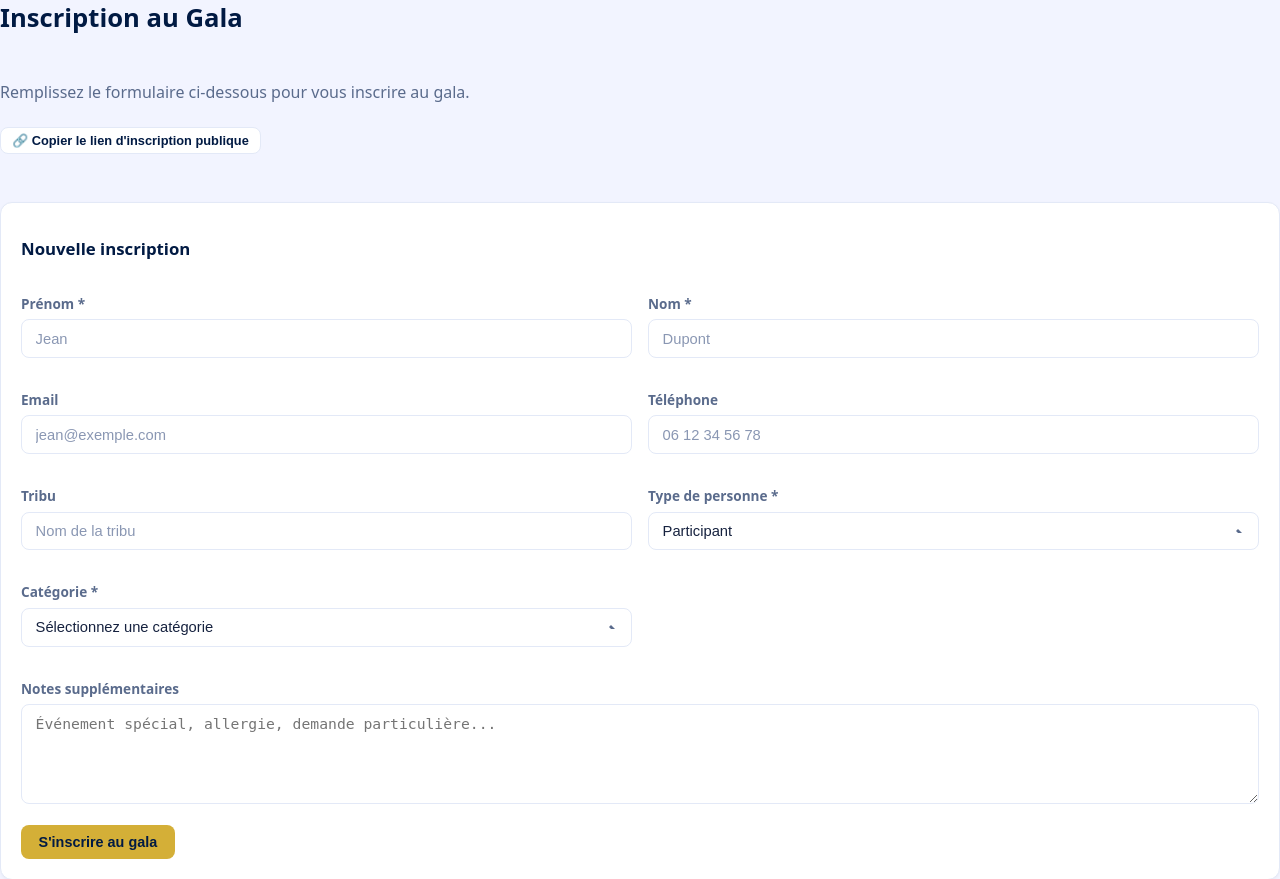
it: retains the input and shows the real error when registration fails
Type "Awa" into the field with placeholder "Jean".
click(326, 339); type("Awa")  # box left=21, top=319, right=632, bottom=358
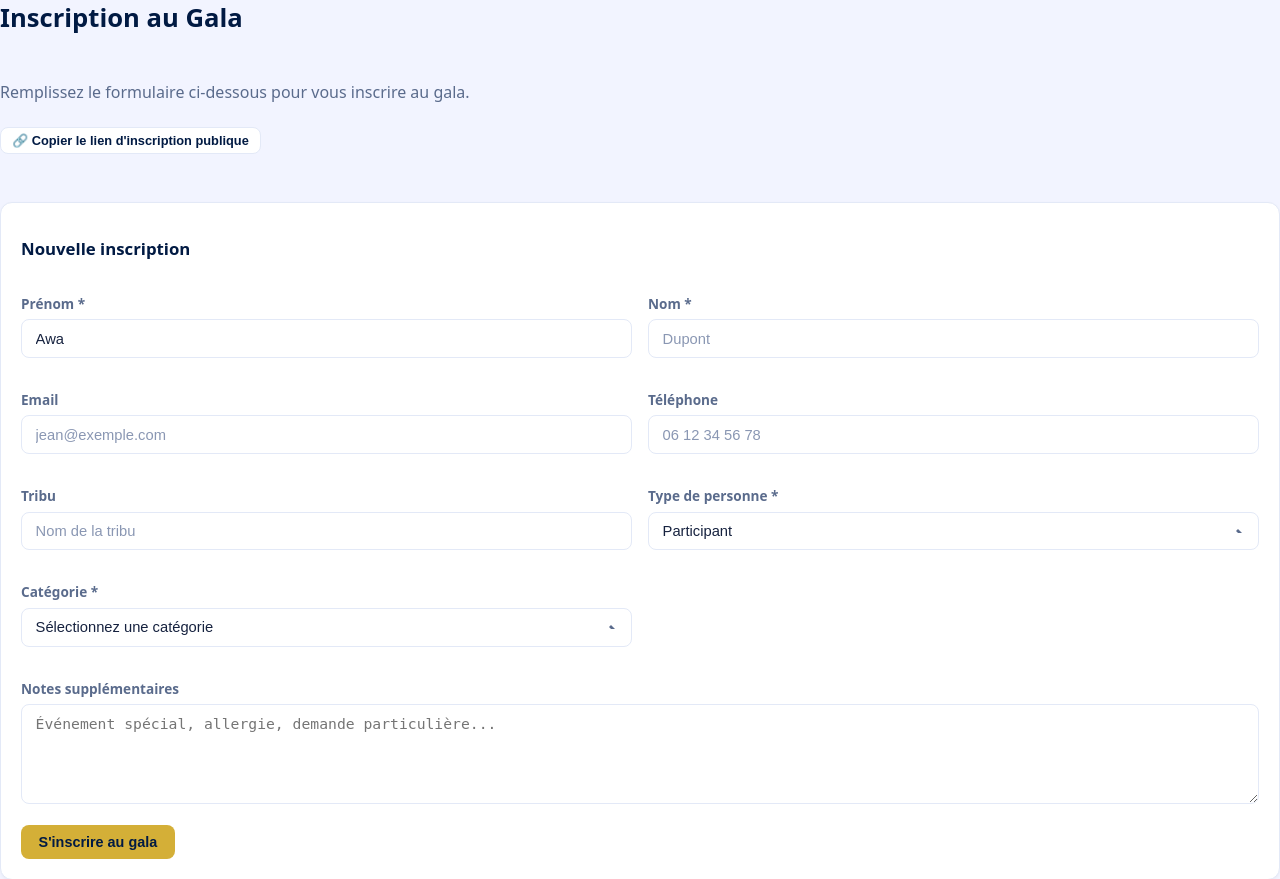
Type "Test" into the field with placeholder "Dupont".
click(954, 339); type("Test")  # box left=648, top=319, right=1259, bottom=358
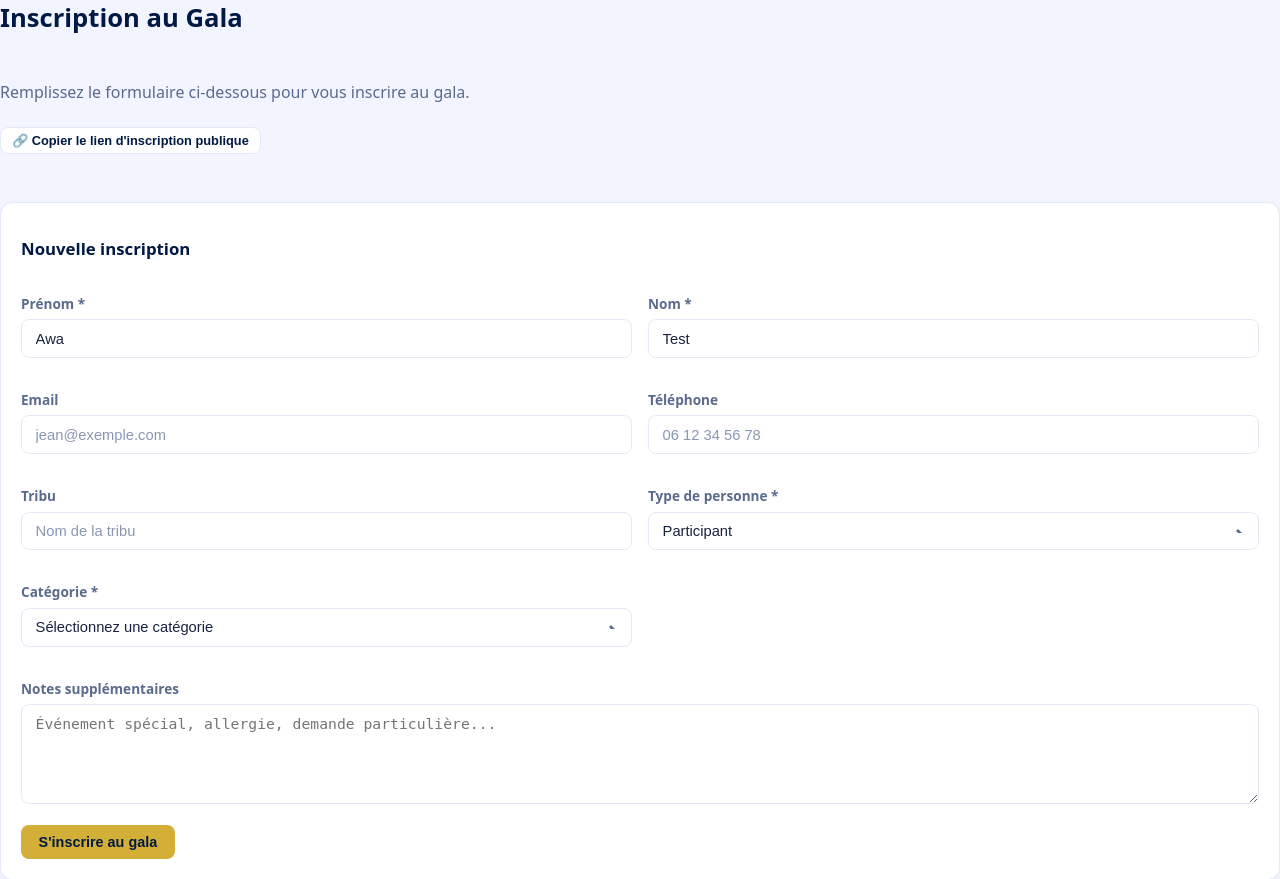
Type "awa@example.test" into the field with placeholder "jean@exemple.com".
click(326, 435); type("awa@example.test")  # box left=21, top=415, right=632, bottom=454
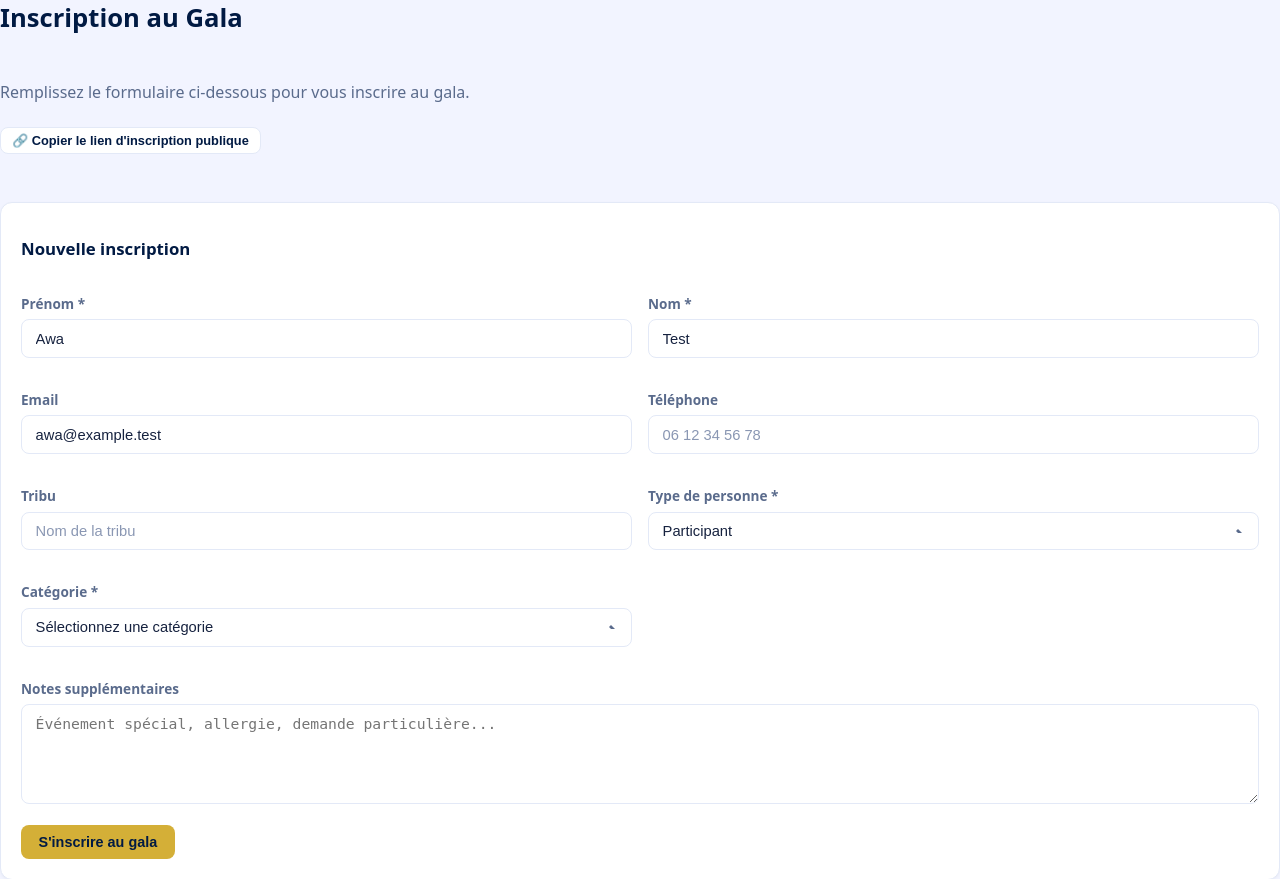
Select "VIP — 500 000 FCFA" in the dropdown named "category_id" below "Catégorie *" at point(326, 627), box left=21, top=608, right=632, bottom=647
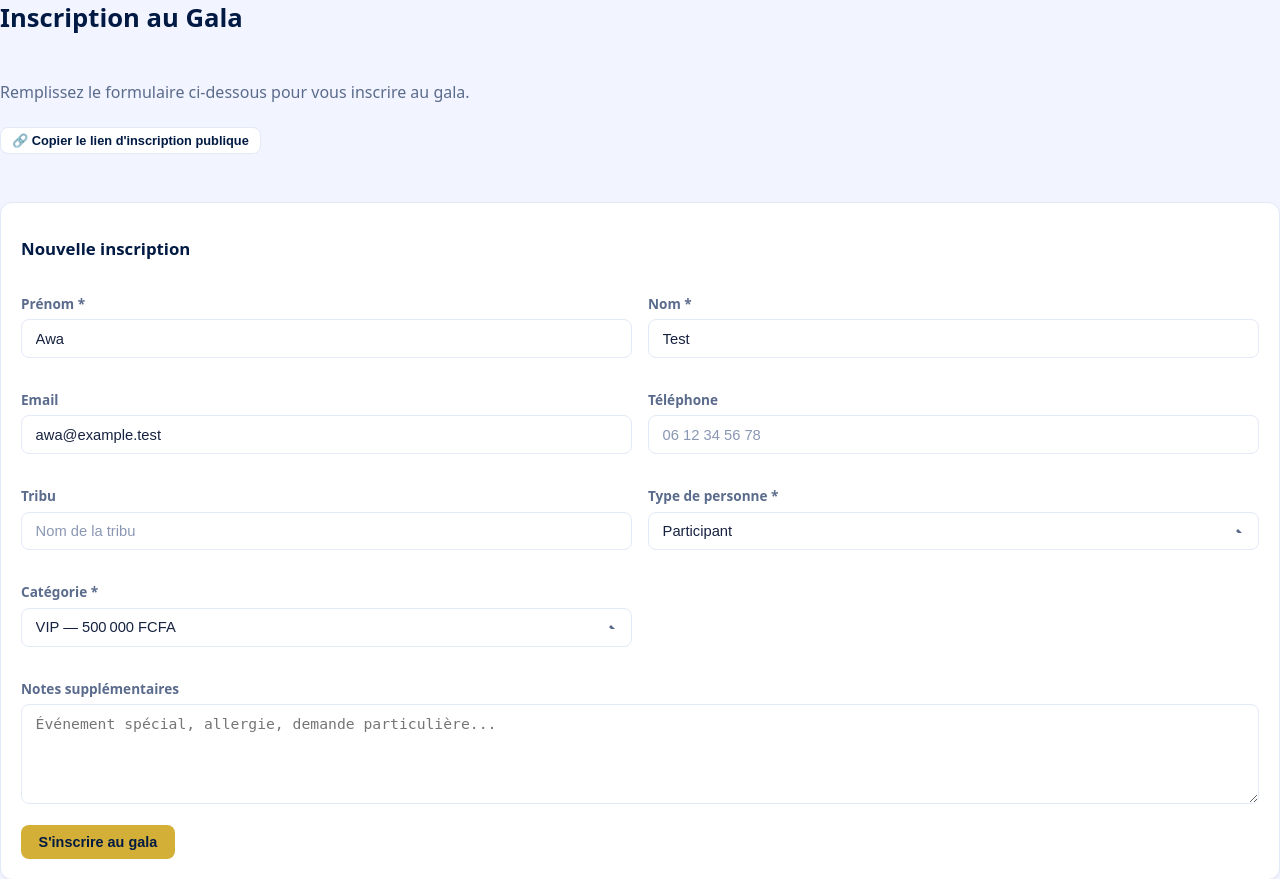
Type "Allergie" into the text box with placeholder "Événement spécial, allergie, demande particulière...".
click(640, 754); type("Allergie")  # box left=21, top=704, right=1259, bottom=804
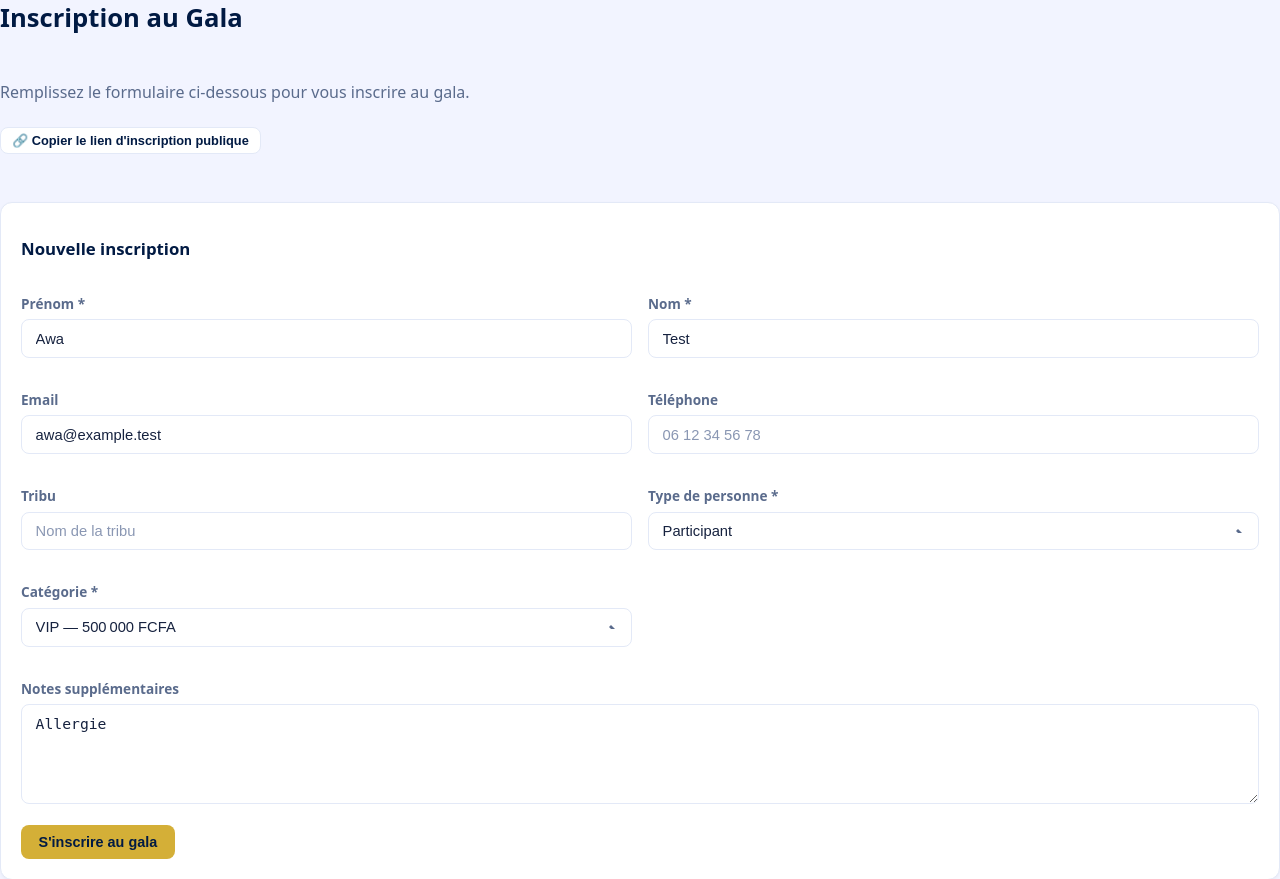
Submit the form named "S'inscrire au gala"
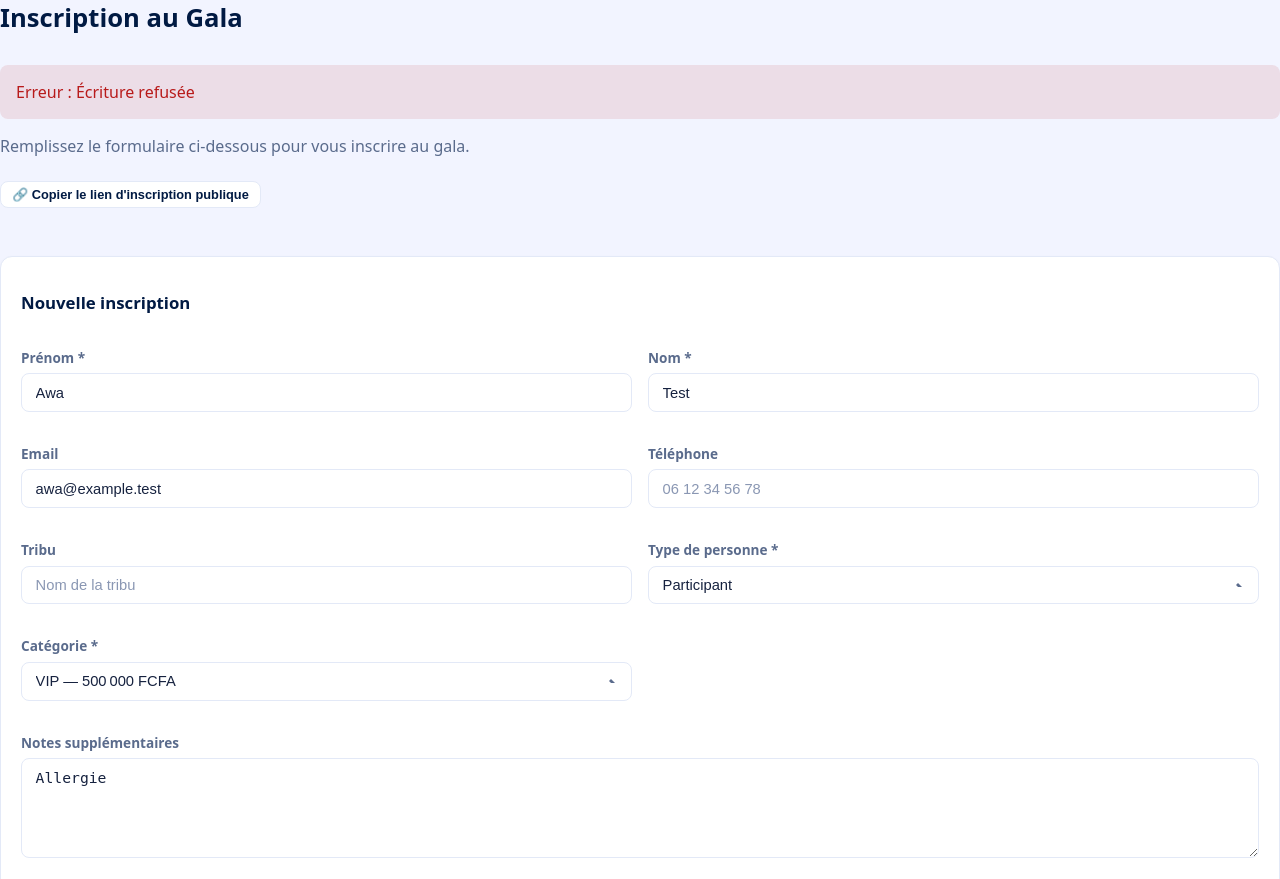
Result: the text "Erreur : Écriture refusée" is shown at left=0, top=65, right=1279, bottom=119
